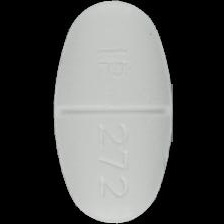55289-241: (0, 0, 224, 224)
